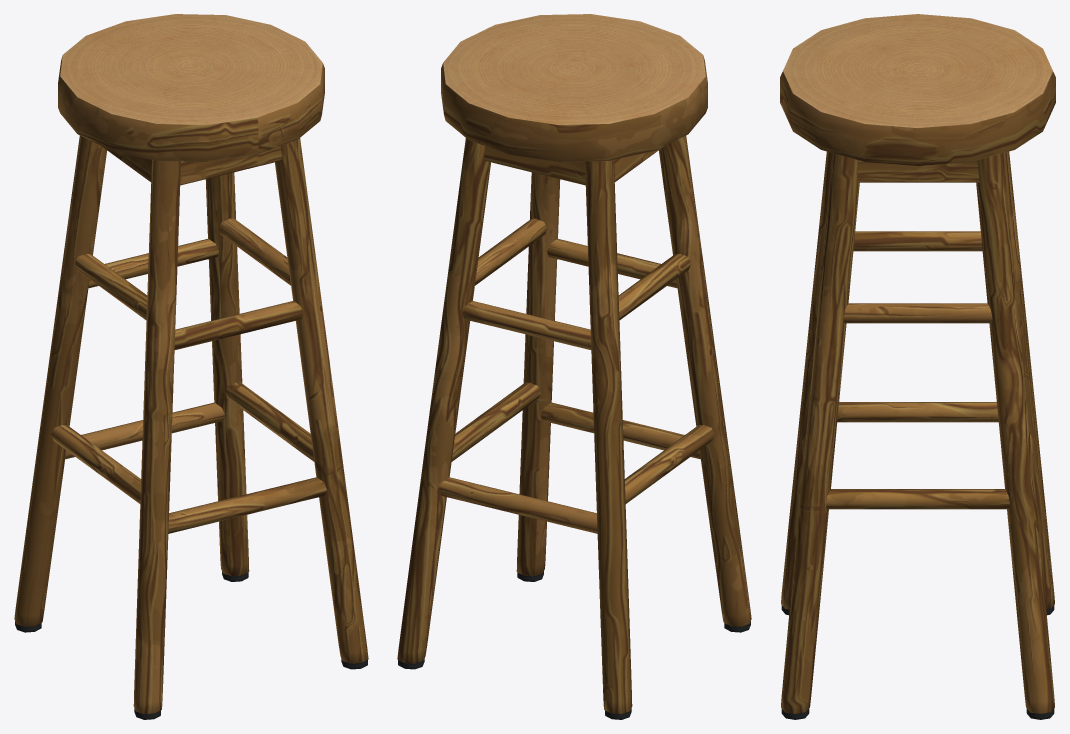
The model's file is Stool_Wood.fbx.
3 views of the same model, side by side, from view 1: azimuth 30°, elevation 25°; view 2: azimuth 150°, elevation 25°; view 3: azimuth 270°, elevation 25° (orthographic). The views are drawn at different scales.
Parts seen in each view (by area): view 1: Stool-Wood-Legs, Stool-Wood-RingWood, Stool-Wood_Stoppers; view 2: Stool-Wood-Legs, Stool-Wood-RingWood, Stool-Wood_Stoppers; view 3: Stool-Wood-Legs, Stool-Wood-RingWood, Stool-Wood_Stoppers.
Part boxes in pixels (bbox=[...]): Stool-Wood-Legs: bbox=[14, 56, 368, 714]; Stool-Wood-RingWood: bbox=[60, 14, 322, 124]; Stool-Wood_Stoppers: bbox=[15, 572, 367, 719]; Stool-Wood-Legs: bbox=[397, 56, 751, 714]; Stool-Wood-RingWood: bbox=[443, 14, 705, 124]; Stool-Wood_Stoppers: bbox=[398, 572, 750, 719]; Stool-Wood-Legs: bbox=[780, 71, 1055, 713]; Stool-Wood-RingWood: bbox=[783, 14, 1052, 127]; Stool-Wood_Stoppers: bbox=[781, 605, 1054, 719].
Bounding box in the file's own units: 32.17 × 76.44 × 32.17.
